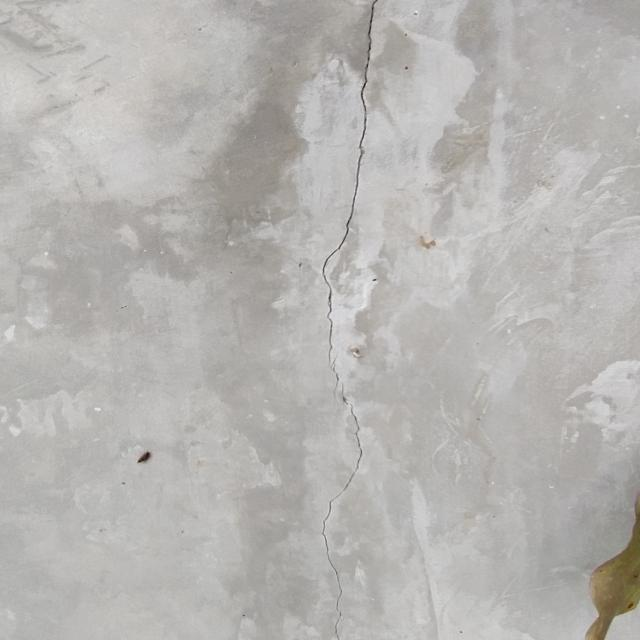Crack: (316, 1, 376, 637)
